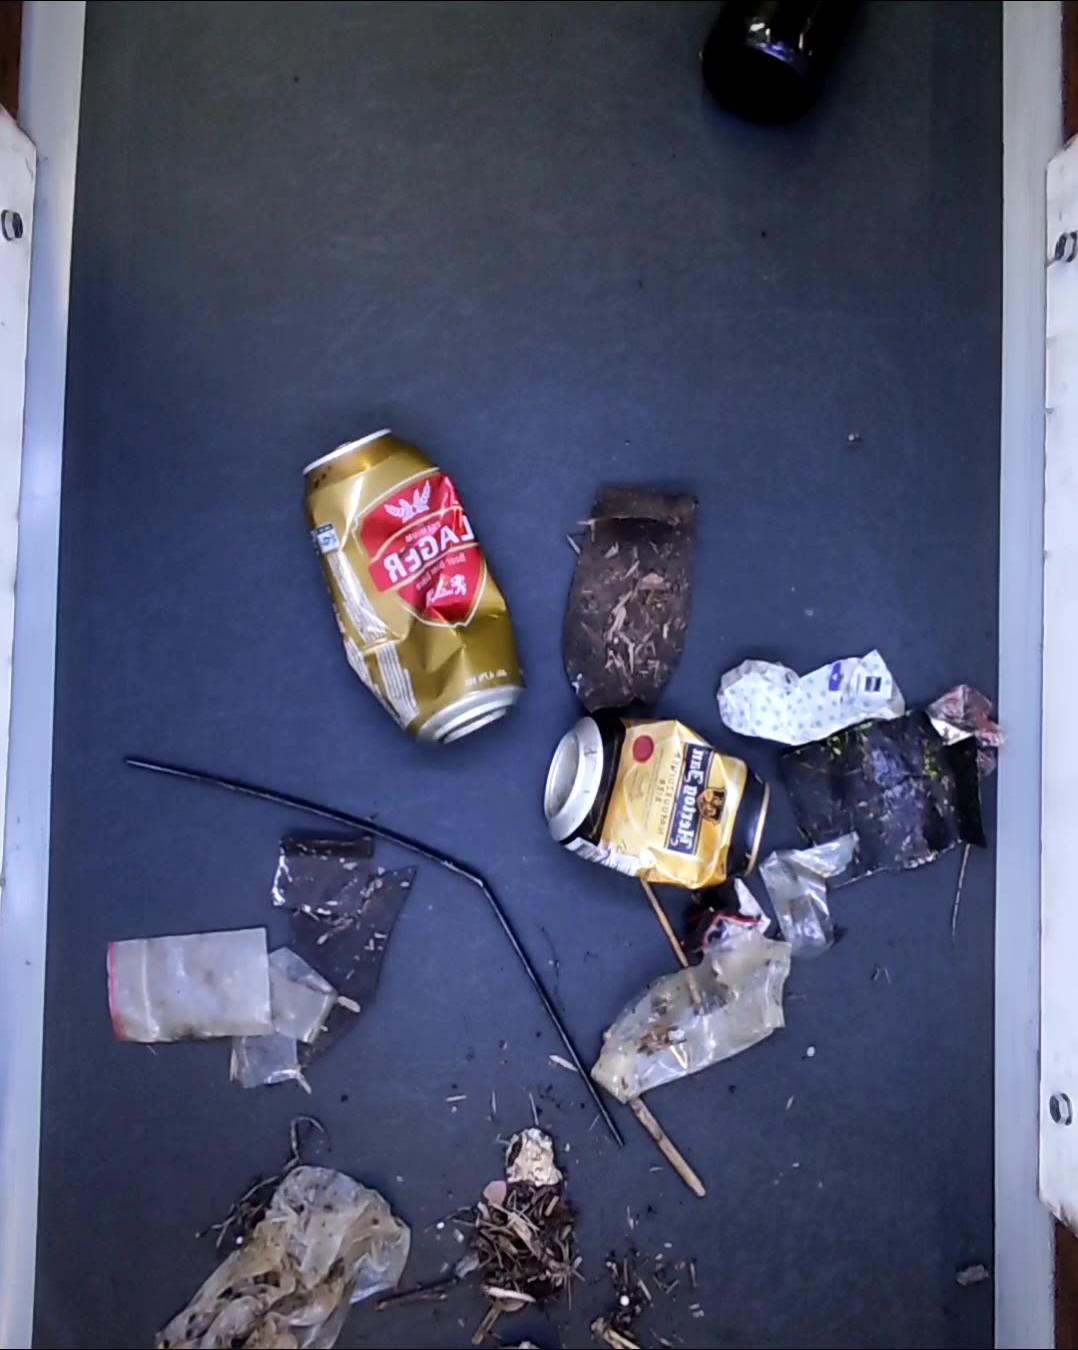Drankblikjes: (299, 435, 524, 747), (543, 720, 772, 892)
Plastic folies of stukken daarvan 2.5- 50 cm: (162, 1172, 414, 1350), (590, 940, 793, 1094), (230, 947, 329, 1086), (769, 834, 860, 955)
Snoep snack en chips verpakkingen: (671, 879, 772, 964), (926, 678, 1002, 773)
